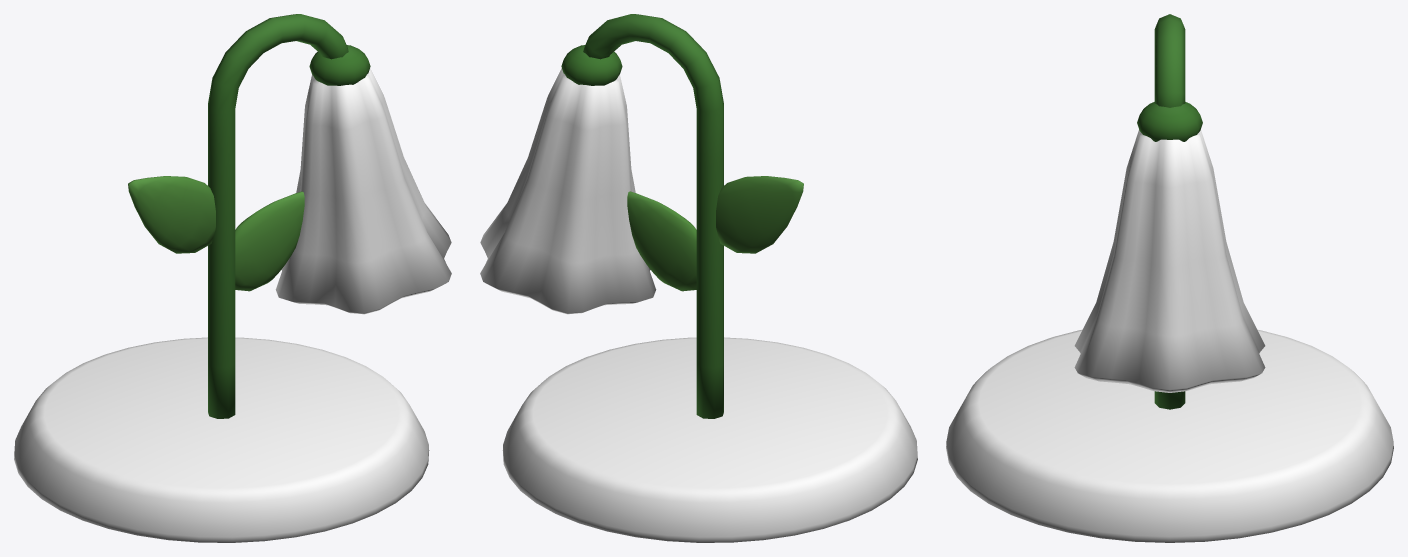
File: copihue-CJ4Cvq4K.glb
3 views of the same model, side by side, from view 1: azimuth 30°, elevation 25°; view 2: azimuth 150°, elevation 25°; view 3: azimuth 270°, elevation 25° (orthographic). The views are drawn at different scales.
Visible parts, largest first — view 1: Tint, Body; view 2: Tint, Body; view 3: Tint, Body.
Boxes of the visible parts, <box> form: Tint: <box>14,68,451,542</box>; Body: <box>128,14,370,418</box>; Tint: <box>480,68,917,542</box>; Body: <box>561,14,803,418</box>; Tint: <box>946,129,1393,542</box>; Body: <box>1137,14,1202,409</box>.
Size of the model in its own units: 1.15 by 1.15 by 1.02.
Materials: 2 (2 with a texture image).
